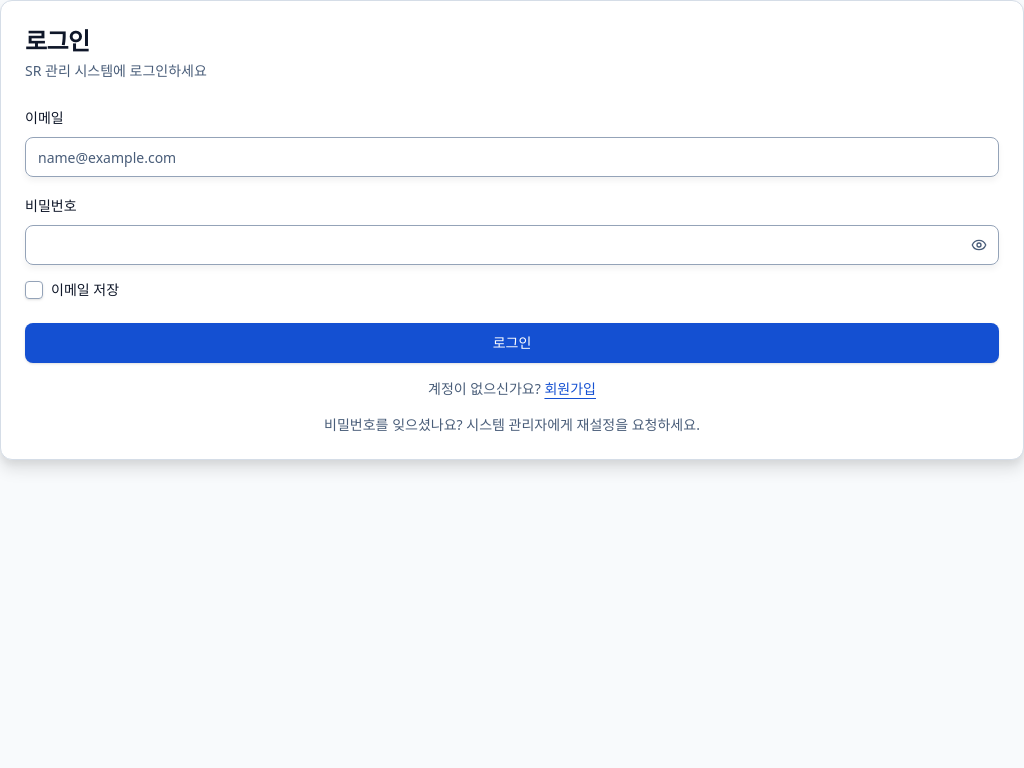
Test case: LoginForm — 실패 처리 › 요청 제한에 걸렸으면(code=rate_limited) 잠시 뒤 다시 시도하라고 알린다
Type "hong@example.com" into the field labelled "이메일" at (512, 157), box [25,137,999,177]
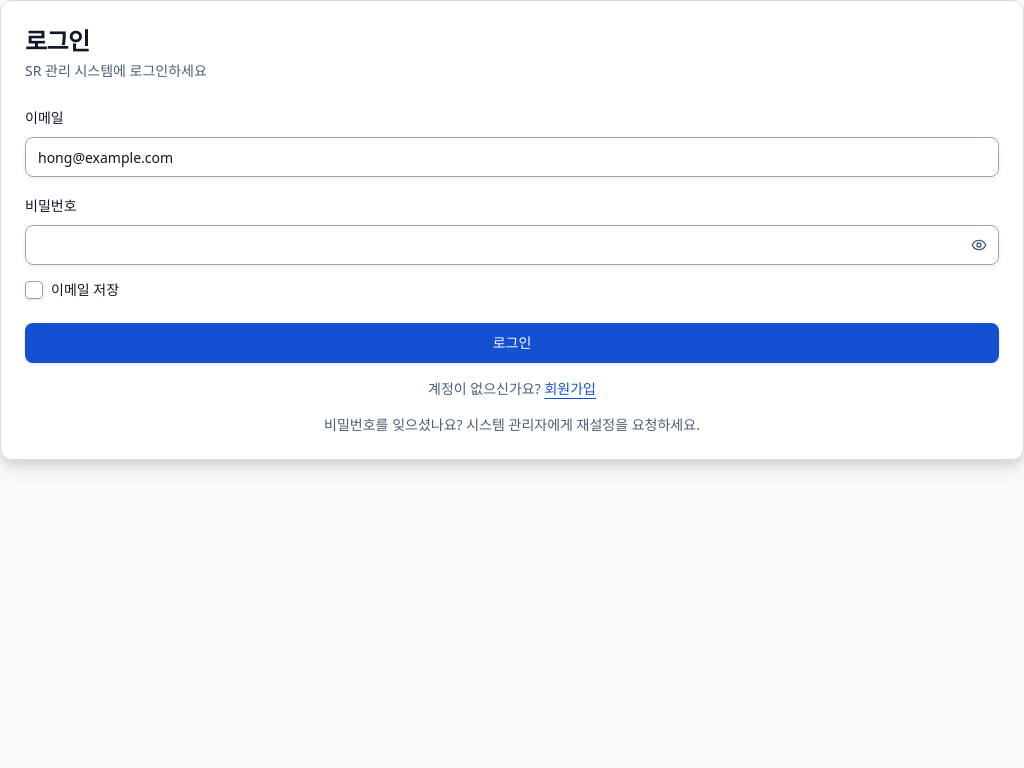
Type "pw1234!" into the password field labelled "비밀번호" at (512, 245), box [25,225,999,265]
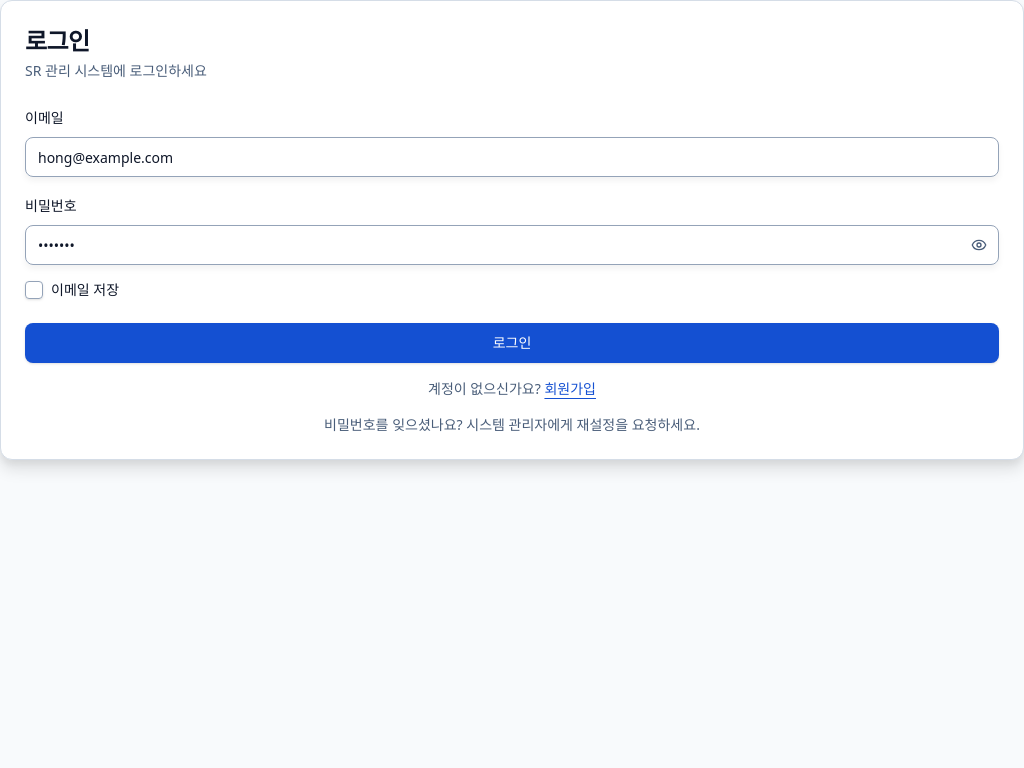
Click the button "로그인" at (512, 343), box [25,323,999,363]
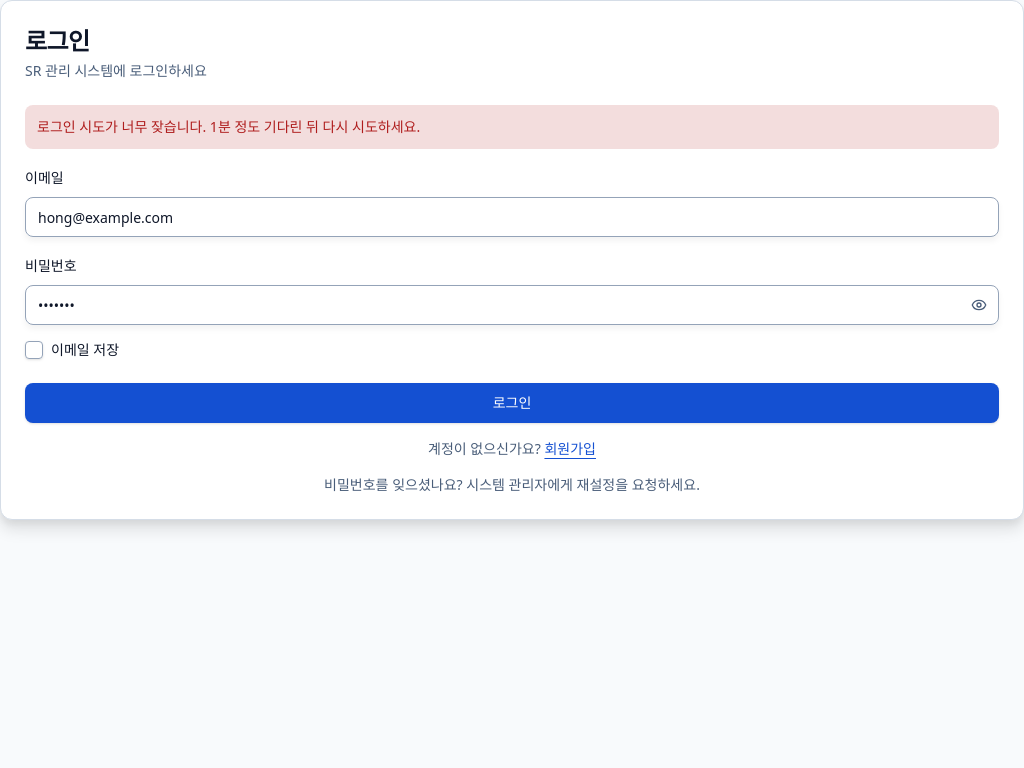
Check: the message reads "로그인 시도가 너무 잦습니다. 1분 정도 기다린 뒤 다시 시도하세요.", box [37,117,420,136]
